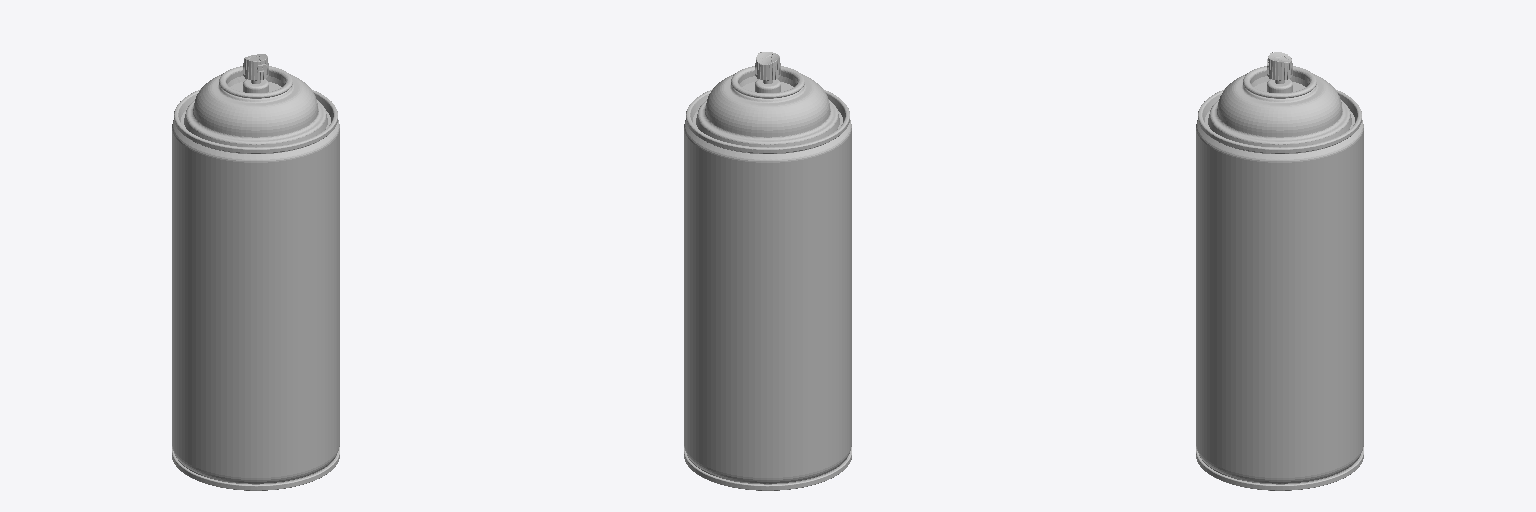
File: spraycan2.obj
The picture shows the model from 3 angles: view 1: azimuth 30°, elevation 25°; view 2: azimuth 150°, elevation 25°; view 3: azimuth 270°, elevation 25°; orthographic projection.
Visible parts, largest first — view 1: spraycanX; view 2: spraycanX; view 3: spraycanX.
Boxes of the visible parts, x1=… form: spraycanX: x1=172, y1=54, x2=339, y2=490; spraycanX: x1=684, y1=52, x2=851, y2=490; spraycanX: x1=1196, y1=52, x2=1363, y2=490.
Bounding box in the file's own units: 18.75 × 49.08 × 18.76.